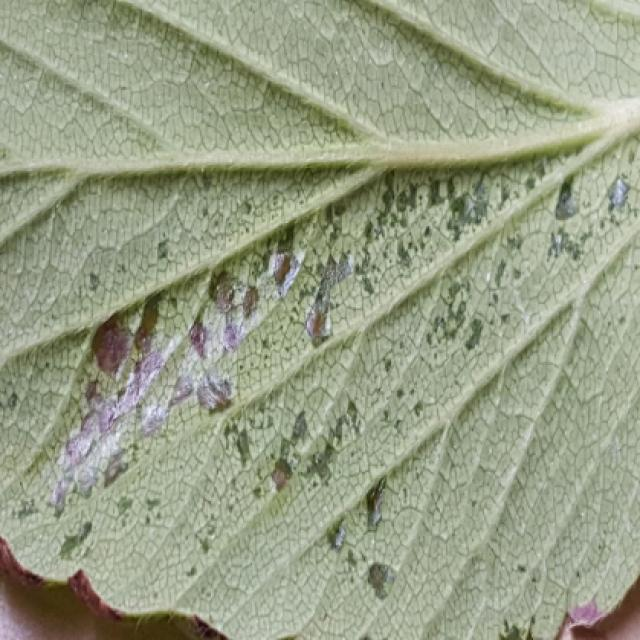Angular Leafspot: (0, 124, 638, 638)
